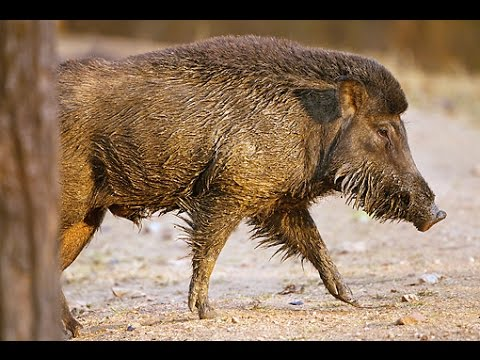wild boar: (23, 31, 465, 327)
